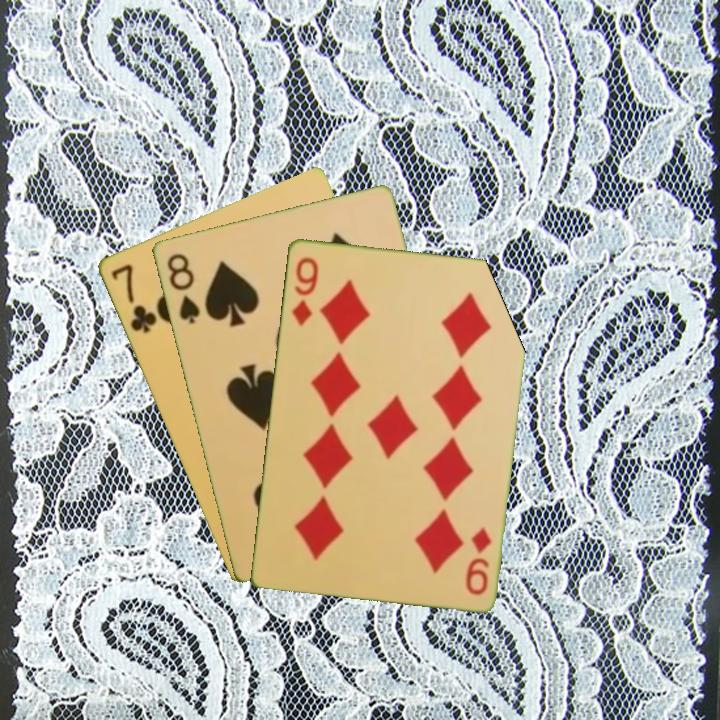7c: (107, 260, 159, 336)
8s: (163, 249, 202, 327)
9d: (288, 253, 321, 329), (461, 522, 494, 598)
